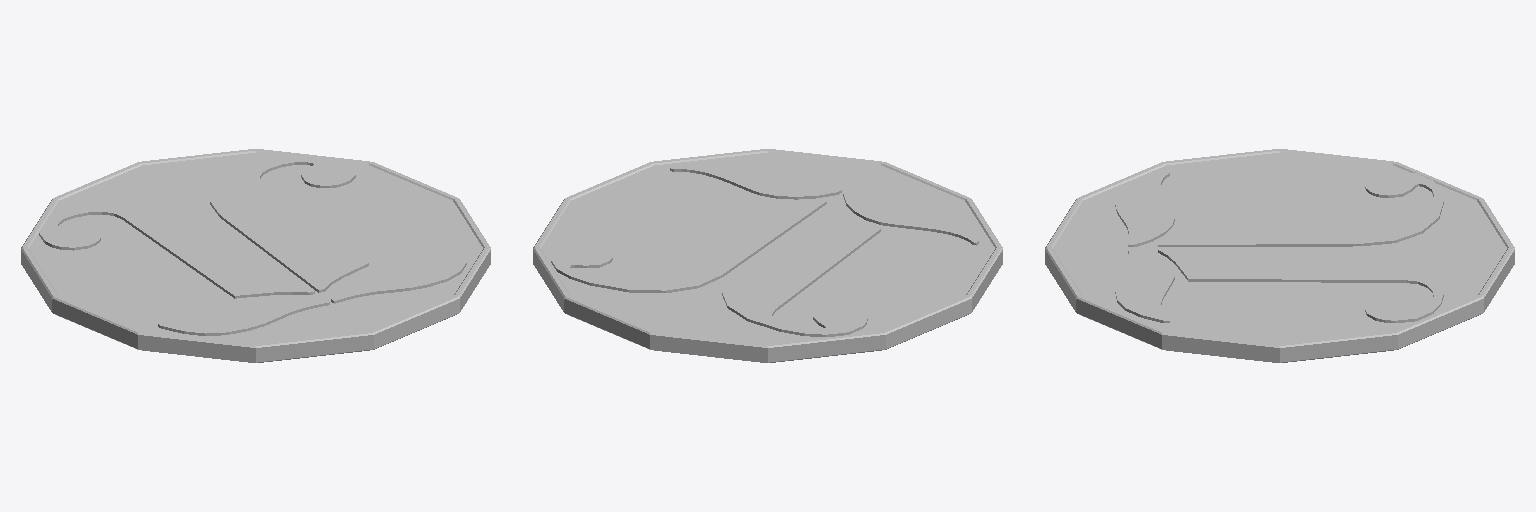
File: Coin.obj
3 views of the same model, side by side, from view 1: azimuth 30°, elevation 25°; view 2: azimuth 150°, elevation 25°; view 3: azimuth 270°, elevation 25° (orthographic).
Visible parts, largest first — view 1: Circle.001_Circle.002, Text.001_CUText.002; view 2: Circle.001_Circle.002, Text.001_CUText.002; view 3: Circle.001_Circle.002, Text.001_CUText.002.
Part boxes in pixels (bbox=[...]): Circle.001_Circle.002: bbox=[21, 149, 490, 362]; Text.001_CUText.002: bbox=[39, 157, 466, 335]; Circle.001_Circle.002: bbox=[533, 149, 1002, 362]; Text.001_CUText.002: bbox=[551, 159, 978, 336]; Circle.001_Circle.002: bbox=[1045, 149, 1514, 362]; Text.001_CUText.002: bbox=[1115, 171, 1443, 322].
Size of the model in its own units: 2 by 0.0936 by 2.